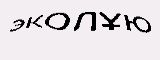А: (60, 32, 76, 56)
Е: (44, 32, 59, 54)
Т: (106, 23, 123, 45), (93, 24, 107, 44)
Ю: (78, 26, 96, 52)
